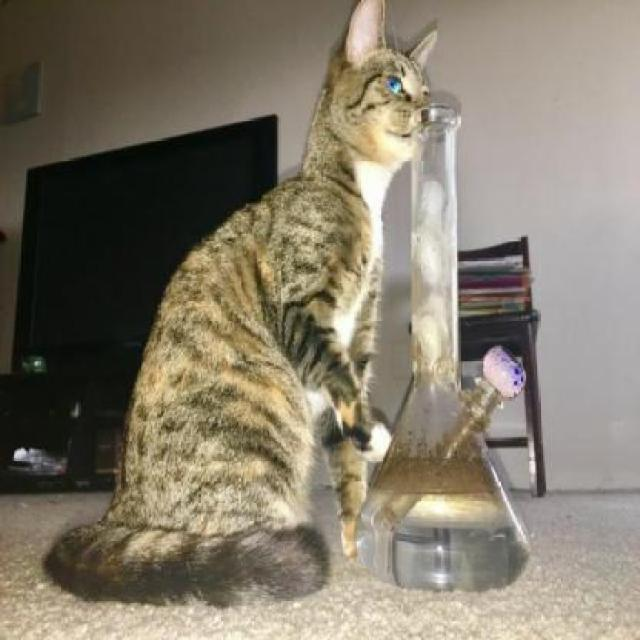cat: (67, 0, 436, 602)
